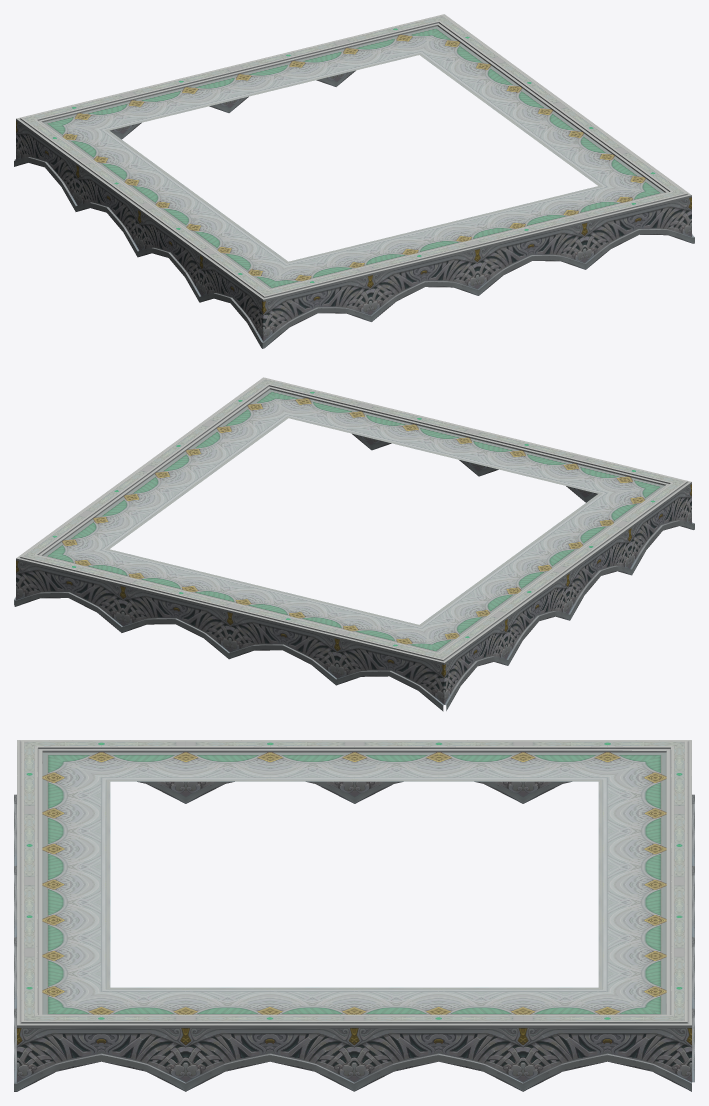
The model's file is W3_HD_GongHuiBoss_baobian_01_03_D.FBX.
3 renders of one model, top to bottom at view 1: azimuth 30°, elevation 25°; view 2: azimuth 150°, elevation 25°; view 3: azimuth 270°, elevation 25°, orthographic. The views are drawn at different scales.
Visible parts, largest first — view 1: W3_HD_GongHuiBoss_baobian_01_03_D; view 2: W3_HD_GongHuiBoss_baobian_01_03_D; view 3: W3_HD_GongHuiBoss_baobian_01_03_D.
Boxes of the visible parts, x1,y1,x2,y2 form: W3_HD_GongHuiBoss_baobian_01_03_D: (14, 14, 694, 348); W3_HD_GongHuiBoss_baobian_01_03_D: (14, 377, 694, 711); W3_HD_GongHuiBoss_baobian_01_03_D: (14, 740, 694, 1091).
Bounding box in the file's own units: 44.36 × 4.8 × 44.36.
